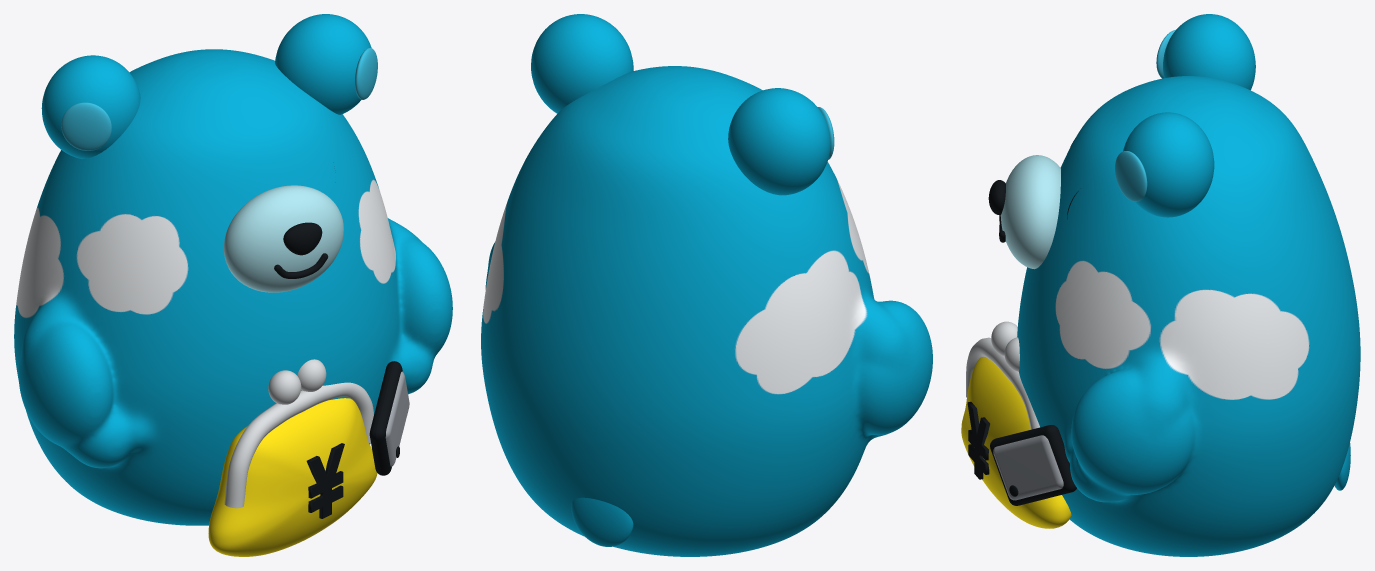
File: tek-kuma.glb
The picture shows the model from 3 angles, left to right: view 1: azimuth 30°, elevation 25°; view 2: azimuth 150°, elevation 25°; view 3: azimuth 270°, elevation 25°; orthographic projection. The views are drawn at different scales.
Parts seen in each view (by area): view 1: Body • deeper rounded silhouette.001, Purse • inflated yellow pouch.001, Pale cyan muzzle.001, Right rounded ear.001, Left rounded ear.001, Purse • satin metal frame.001, Inner ear • cyan inset.002, Accessory • black rim.001, Yen • raised black emblem.001, Accessory • gray inset.001, Rounded triangular nose.001, Purse • silver clasp.002 (+2 smaller); view 2: Body • deeper rounded silhouette.001, Left rounded ear.001, Right rounded ear.001, Small round tail.001; view 3: Body • deeper rounded silhouette.001, Right rounded ear.001, Purse • inflated yellow pouch.001, Pale cyan muzzle.001, Left rounded ear.001, Accessory • gray inset.001, Accessory • black rim.001, Purse • satin metal frame.001, Inner ear • cyan inset.003, Yen • raised black emblem.001, Purse • silver clasp.002, Rounded triangular nose.001.
Part boxes in pixels (x1,y1,x2,y2): Body • deeper rounded silhouette.001: [14, 49, 452, 525]; Purse • inflated yellow pouch.001: [208, 398, 377, 556]; Pale cyan muzzle.001: [224, 185, 343, 292]; Right rounded ear.001: [275, 14, 371, 114]; Left rounded ear.001: [41, 55, 140, 158]; Purse • satin metal frame.001: [224, 382, 373, 508]; Inner ear • cyan inset.002: [61, 102, 111, 150]; Accessory • black rim.001: [369, 361, 402, 475]; Yen • raised black emblem.001: [306, 443, 344, 518]; Accessory • gray inset.001: [385, 371, 409, 466]; Rounded triangular nose.001: [283, 222, 322, 255]; Purse • silver clasp.002: [268, 370, 301, 404]; Body • deeper rounded silhouette.001: [481, 66, 932, 556]; Left rounded ear.001: [728, 88, 830, 195]; Right rounded ear.001: [531, 14, 633, 113]; Small round tail.001: [571, 497, 633, 546]; Body • deeper rounded silhouette.001: [1017, 76, 1360, 556]; Right rounded ear.001: [1123, 112, 1214, 217]; Purse • inflated yellow pouch.001: [961, 356, 1071, 528]; Pale cyan muzzle.001: [1000, 155, 1060, 269]; Left rounded ear.001: [1163, 14, 1255, 90]; Accessory • gray inset.001: [993, 435, 1063, 500]; Accessory • black rim.001: [990, 425, 1076, 505]; Purse • satin metal frame.001: [966, 337, 1039, 429]; Inner ear • cyan inset.003: [1115, 151, 1147, 201]; Yen • raised black emblem.001: [967, 401, 989, 479]; Purse • silver clasp.002: [991, 321, 1017, 355]; Rounded triangular nose.001: [988, 180, 1005, 214].
Size of the model in its own units: 4.37 by 4.63 by 3.69.
Materials: 7 (1 with a texture image).
